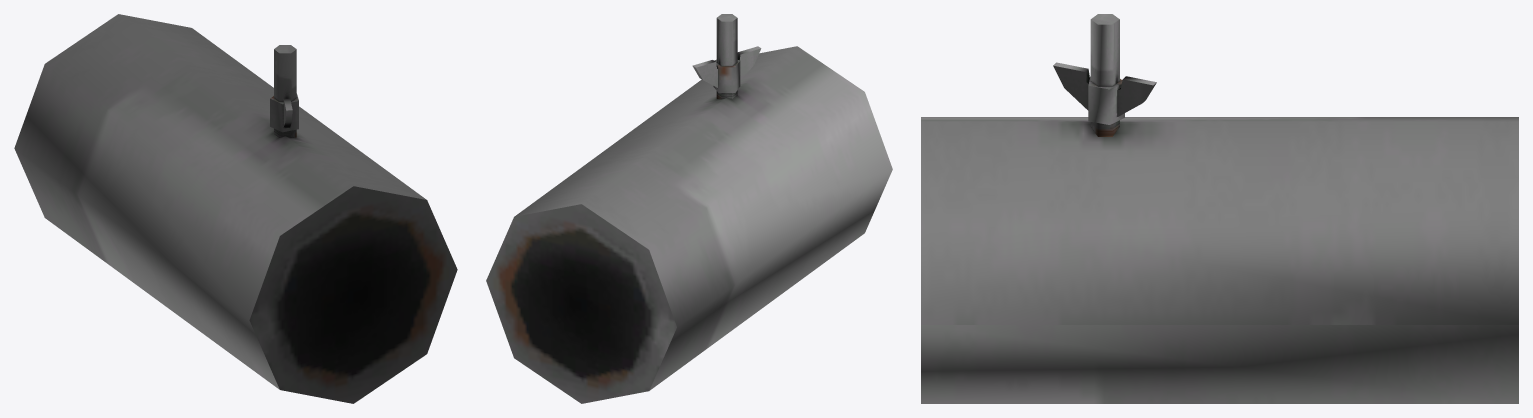
The model's file is scaffold_single_clamp.glb.
3 renders of one model, left to right at view 1: azimuth 30°, elevation 25°; view 2: azimuth 150°, elevation 25°; view 3: azimuth 270°, elevation 25°, orthographic. The views are drawn at different scales.
Parts seen in each view (by area): view 1: scaffold_single_clamp; view 2: scaffold_single_clamp; view 3: scaffold_single_clamp.
Boxes of the visible parts, x1=… form: scaffold_single_clamp: x1=14, y1=14, x2=457, y2=403; scaffold_single_clamp: x1=486, y1=14, x2=892, y2=403; scaffold_single_clamp: x1=921, y1=14, x2=1518, y2=403.
Size of the model in its own units: 0.1266 by 0.1747 by 0.2477.
Materials: 1 (1 with a texture image).
